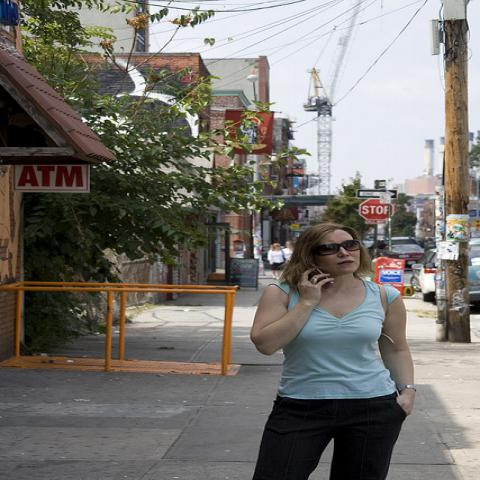car: (410, 249, 439, 305), (382, 244, 425, 266), (392, 236, 420, 246)
